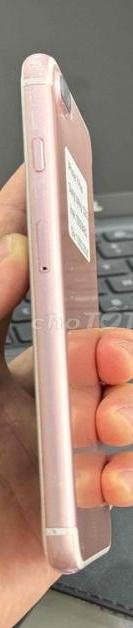scratch: (16, 51, 59, 76), (48, 560, 85, 585), (86, 523, 107, 554), (28, 95, 43, 131), (58, 97, 80, 119), (68, 283, 89, 305), (56, 378, 77, 399), (46, 524, 66, 542), (68, 265, 80, 281)
